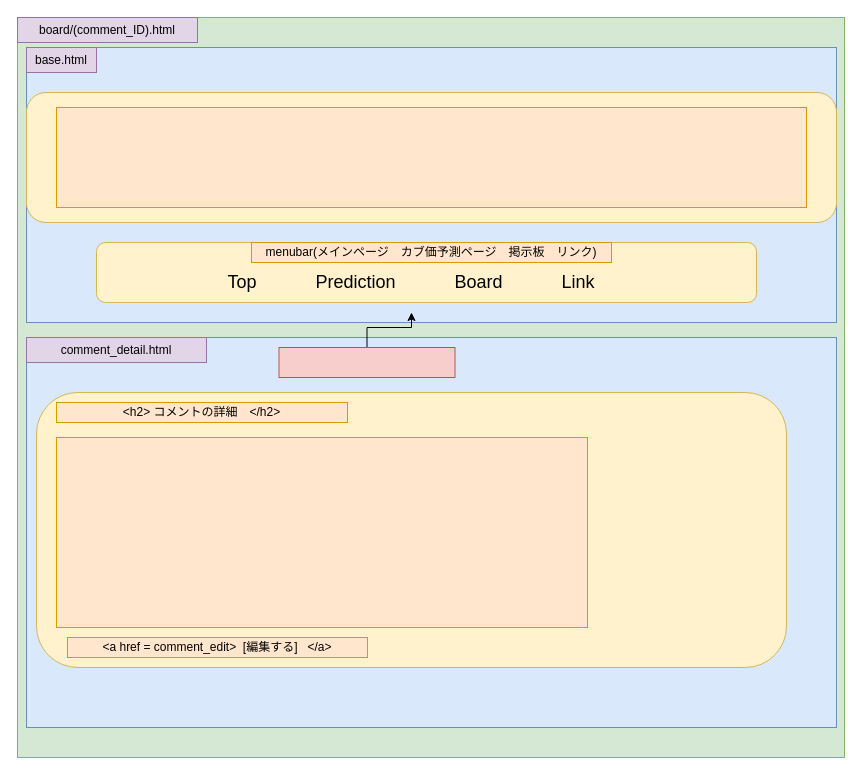
Some shapes in this 862 by 775 pixel diagram are drawn without their labels. The shapes that lost their labels are listed below. From the top down, each one's centre as x and y in pixels, then its label:
the point at 431,157: <header> <h1> <a href=index> <img> メインページへのリンク付きトップバナー </a> </h1> </header>
the point at 366,362: {{base.htmlを継承}}
the point at 322,532: Comment_id タイトル 本文 created_at_ ***** updated_at_ ******
